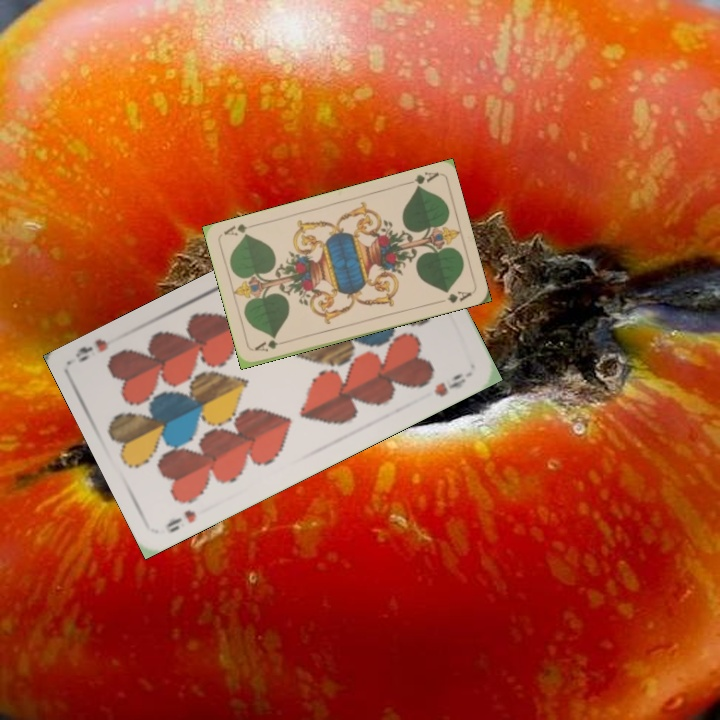GA: (401, 168, 441, 192), (251, 336, 280, 354)
H9: (161, 506, 199, 535)
